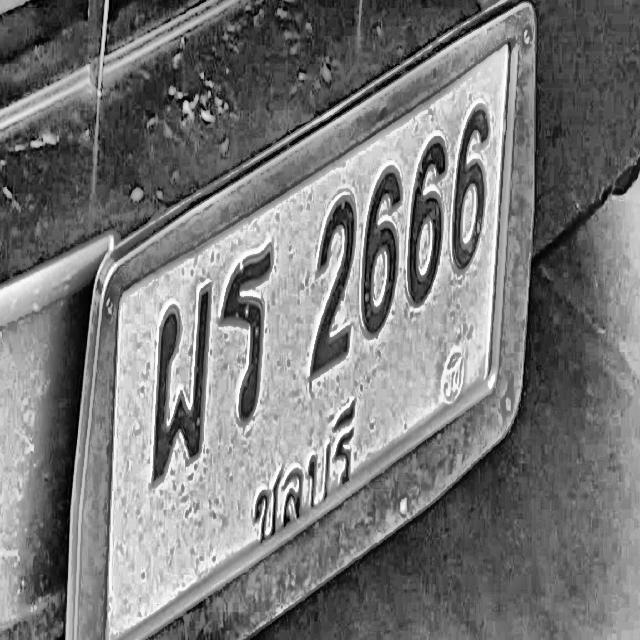license-plate: (51, 0, 554, 640)
